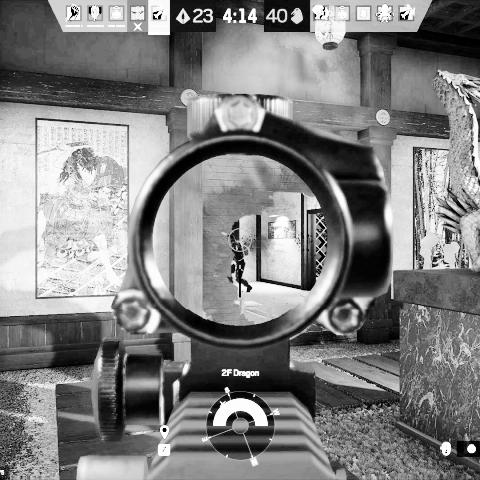Character: (226, 233, 252, 295)
Head: (228, 234, 238, 244)
